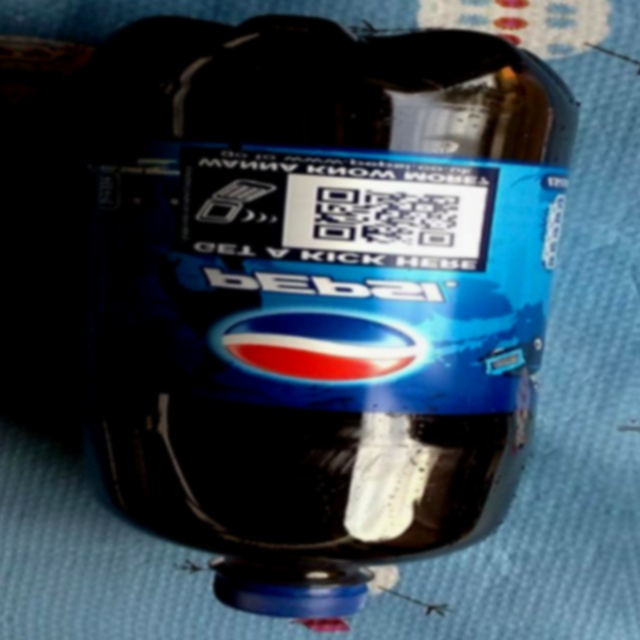qr-code: (314, 187, 458, 248)
